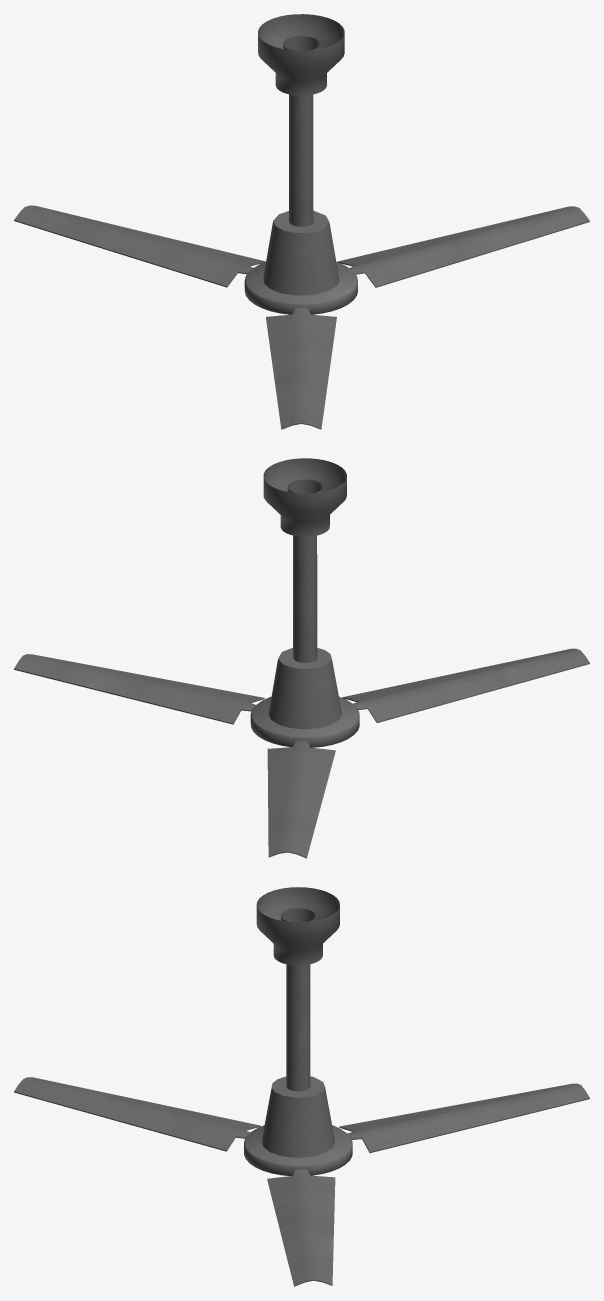
3 renders of one model, top to bottom at view 1: azimuth 30°, elevation 25°; view 2: azimuth 150°, elevation 25°; view 3: azimuth 270°, elevation 25°, orthographic. The views are drawn at different scales.
Parts seen in each view (by area): view 1: 3_Metal_0; view 2: 3_Metal_0; view 3: 3_Metal_0.
Boxes of the visible parts, <box> form: 3_Metal_0: <box>14,14,589,429</box>; 3_Metal_0: <box>14,458,589,858</box>; 3_Metal_0: <box>14,887,589,1286</box>.
Size of the model in its own units: 3.94 by 2.27 by 4.6.
Materials: 2 (1 with a texture image).
